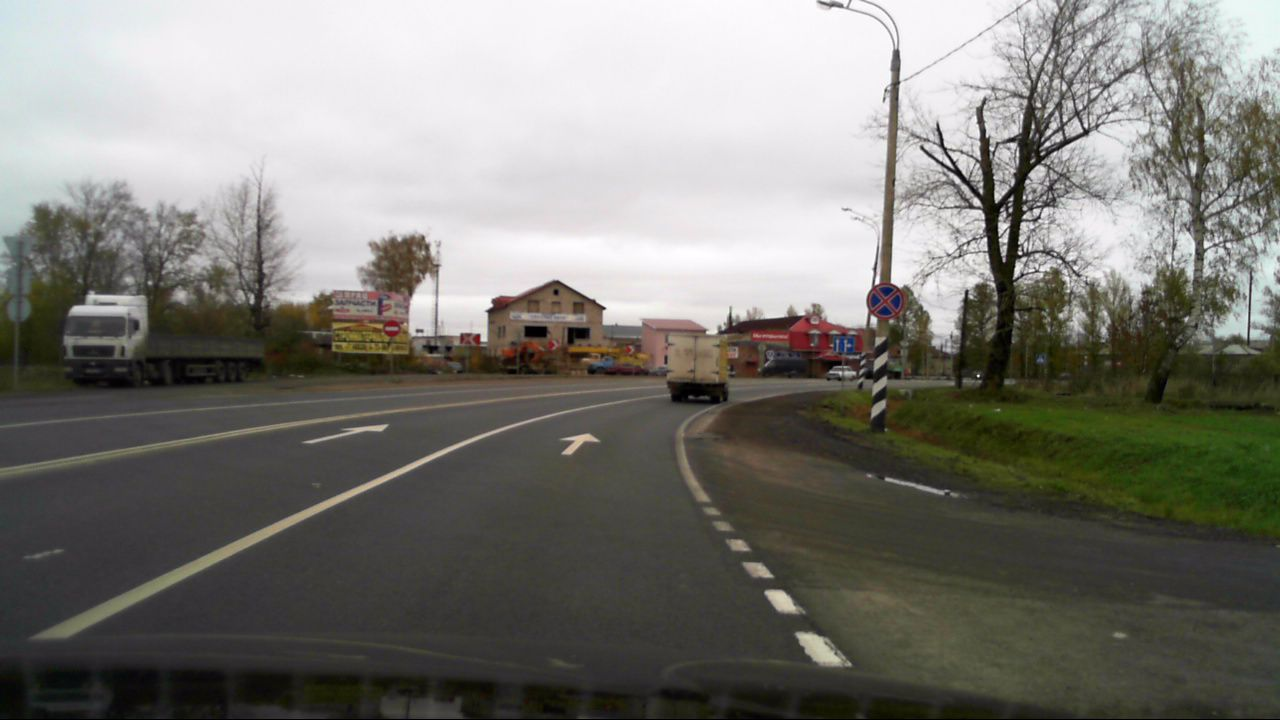No Parking: (867, 282, 904, 322)
